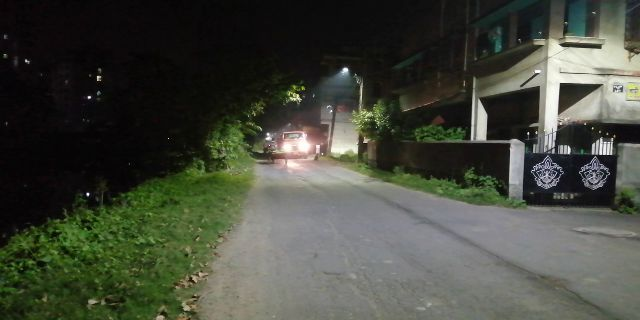Truck: (279, 128, 311, 162)
